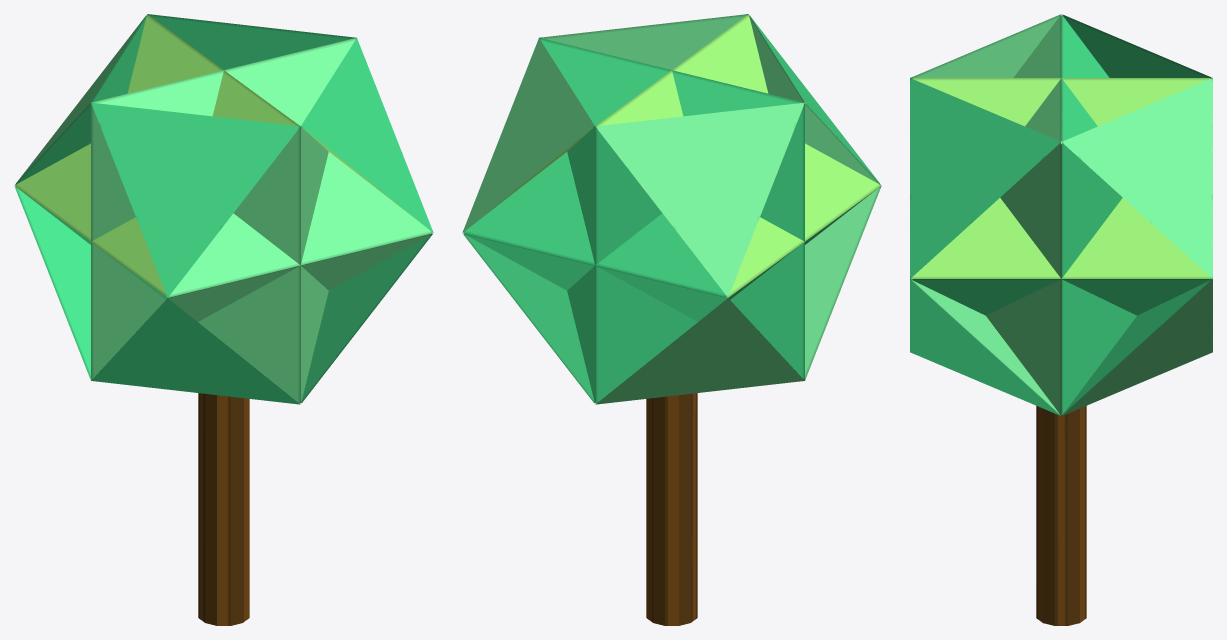
The model's file is lpTree.fbx.
3 renders of one model, left to right at view 1: azimuth 30°, elevation 25°; view 2: azimuth 150°, elevation 25°; view 3: azimuth 270°, elevation 25°, orthographic.
Parts seen in each view (by area): view 1: Leafs, Log; view 2: Leafs, Log; view 3: Leafs, Log.
Boxes of the visible parts, bbox=[...] form: Leafs: bbox=[14, 14, 433, 404]; Log: bbox=[198, 393, 249, 625]; Leafs: bbox=[462, 14, 881, 404]; Log: bbox=[646, 393, 697, 625]; Leafs: bbox=[910, 14, 1212, 416]; Log: bbox=[1036, 406, 1086, 625].
Bounding box in the file's own units: 150 × 294 × 150.
Materials: 2 (2 with a texture image).
